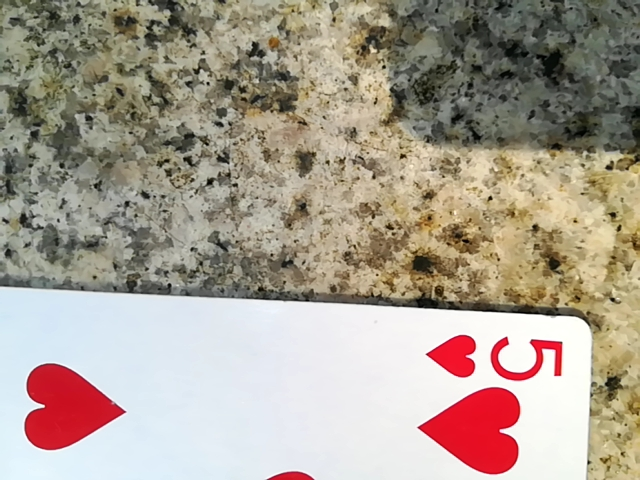hx 5: (0, 272, 587, 480)
